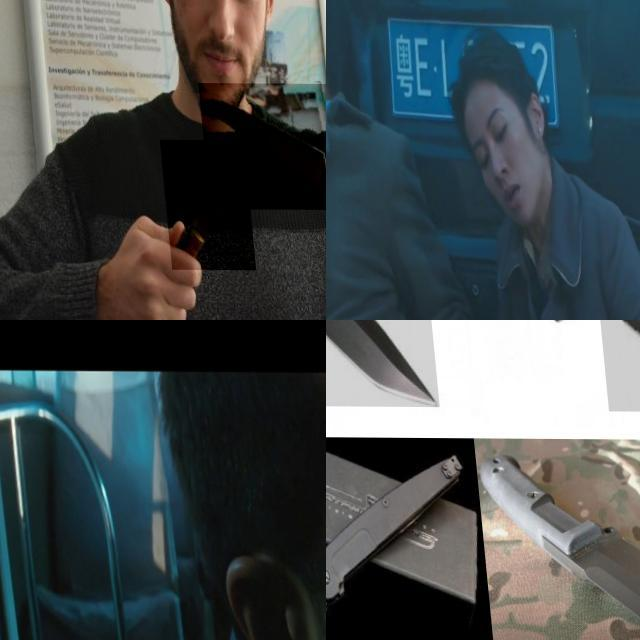-: (191, 82, 326, 209), (542, 514, 640, 640), (152, 140, 246, 270), (326, 320, 433, 406), (326, 563, 408, 640)
gun-knife-thesis - v11 Yolov5 augmented: (326, 238, 365, 320)
